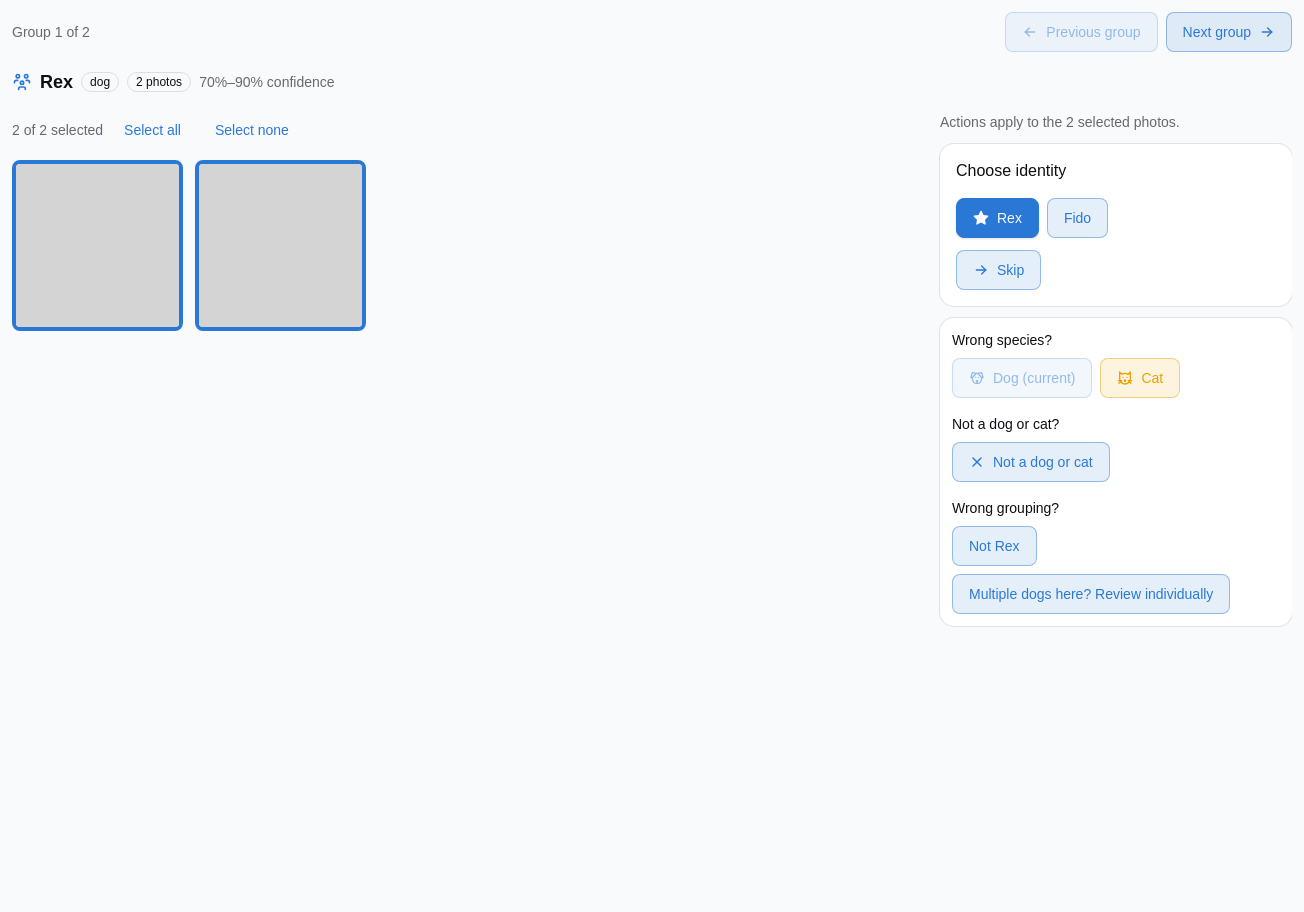
Test case: ReviewGroupedPanel › shows one group at a time and navigates between them
The width and height of the screenshot is (1304, 912).
Expected: the text "Group 1 of 2" is shown, [12,22,90,42]
Expected: the heading "Rex" is shown, [40,68,73,96]
Click the button "Next group" at [1229, 32], box [1166,12,1292,52]
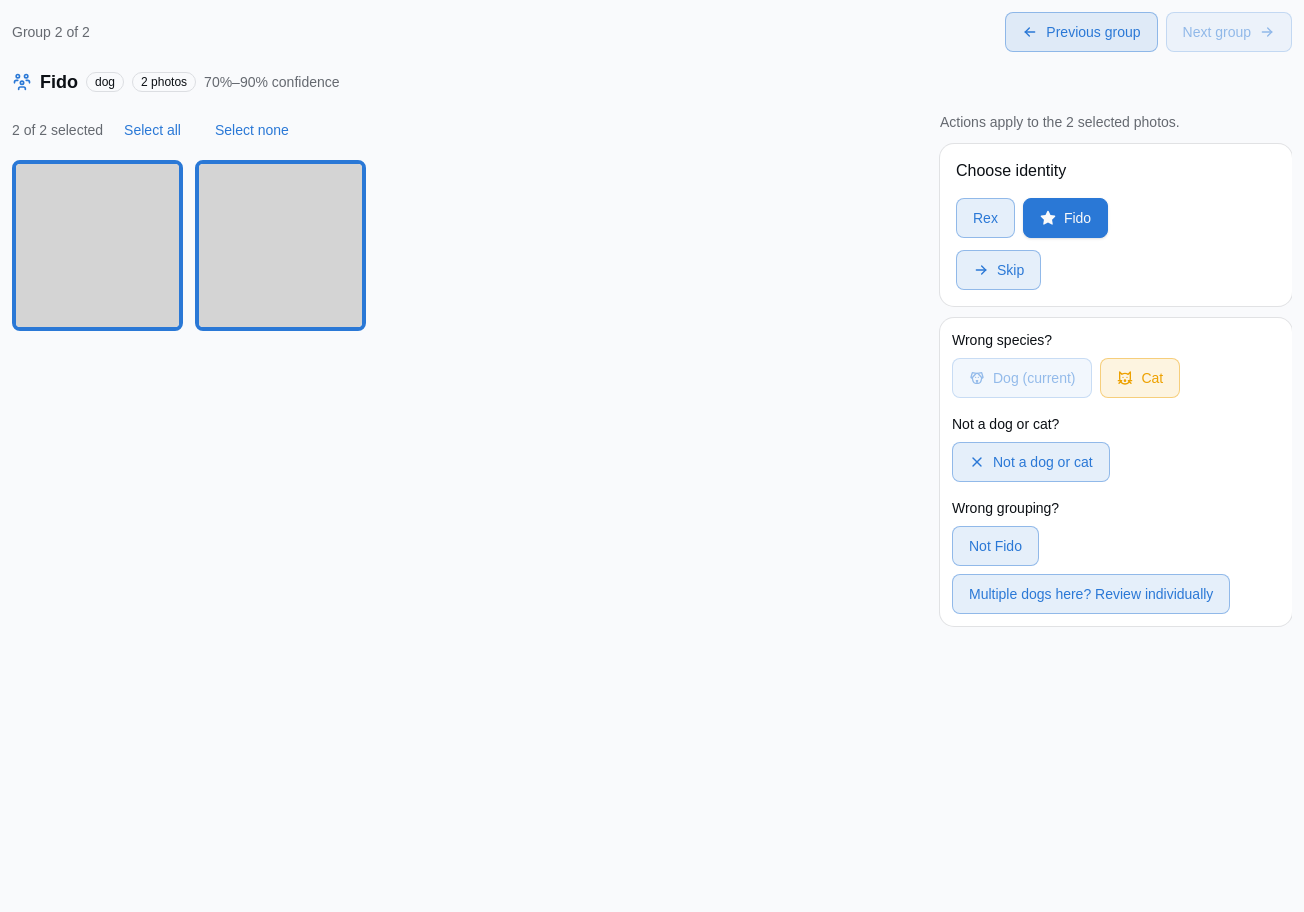
Expected: the text "Group 2 of 2" is shown, [12,22,90,42]
Expected: the heading "Fido" is shown, [40,68,78,96]
Press ArrowLeft
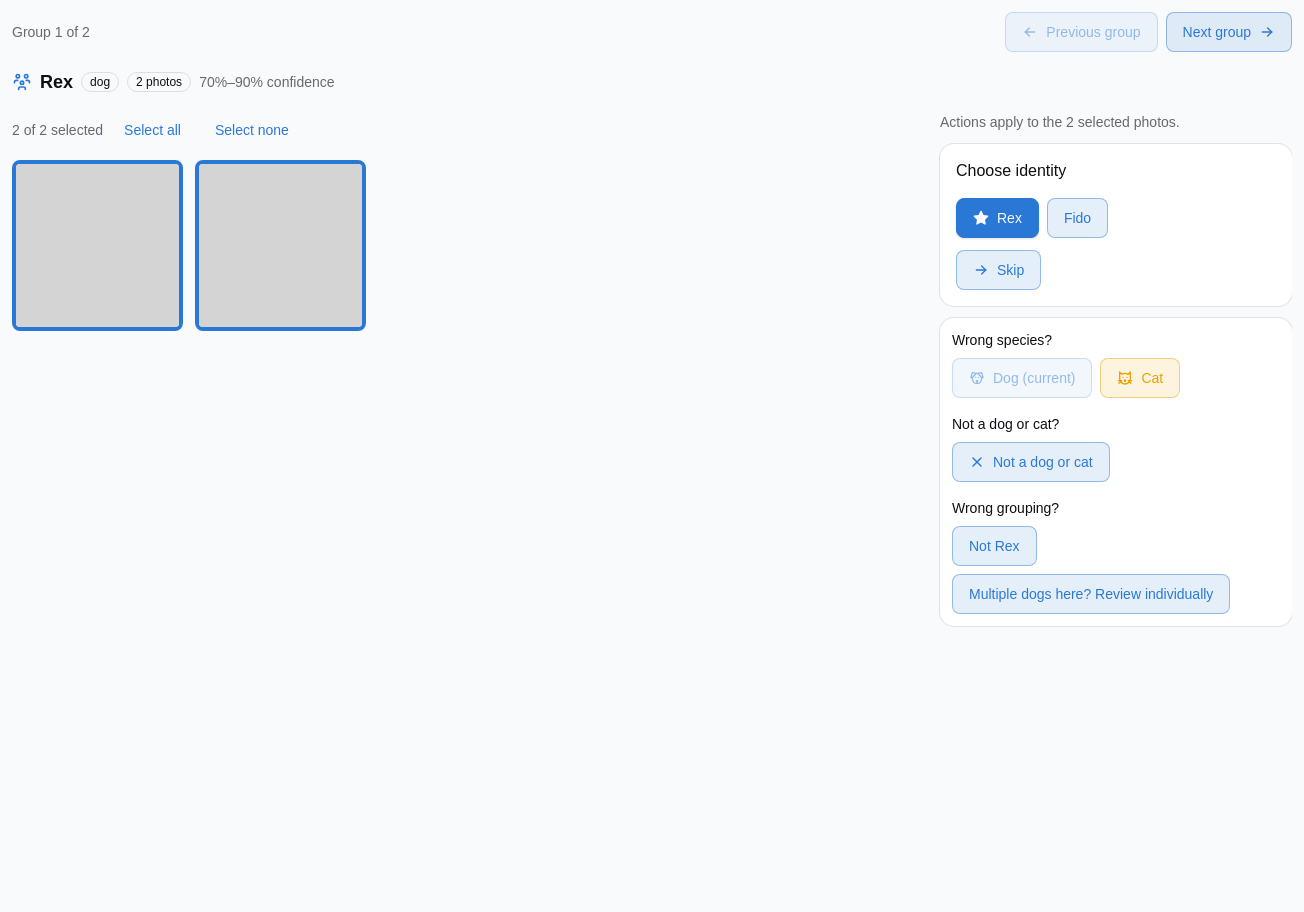
Expected: the text "Group 1 of 2" is shown, [12,22,90,42]
